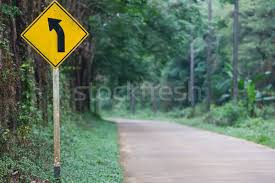curveLeft: (20, 1, 91, 70)
